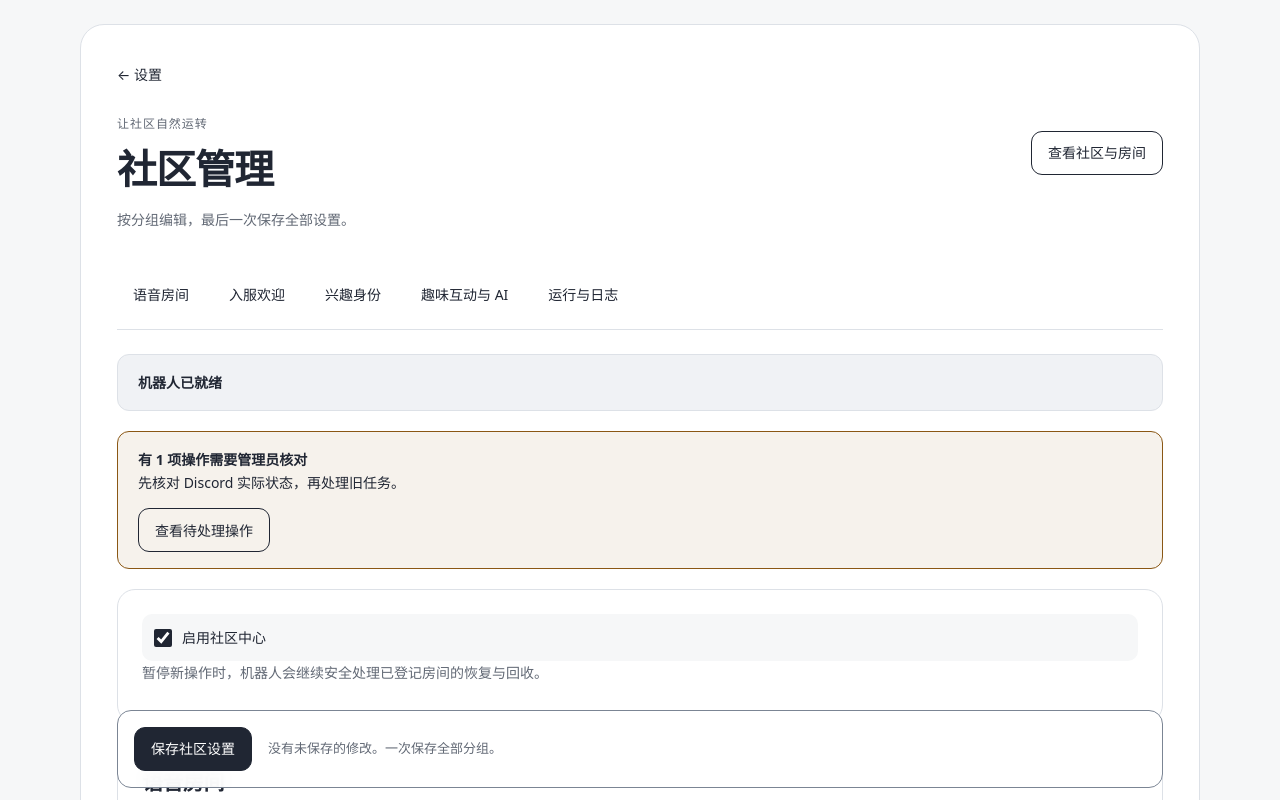
keeps an actionable review warning visible while diagnostic details start folded
Expected: the button "保存社区设置" is shown, [134,727,252,771]
Expected: the text "有 1 项操作需要管理员核对" is shown, [138,450,307,469]
Click the link "查看待处理操作" at (204, 530), box [138,508,270,552]
(page scrolled)
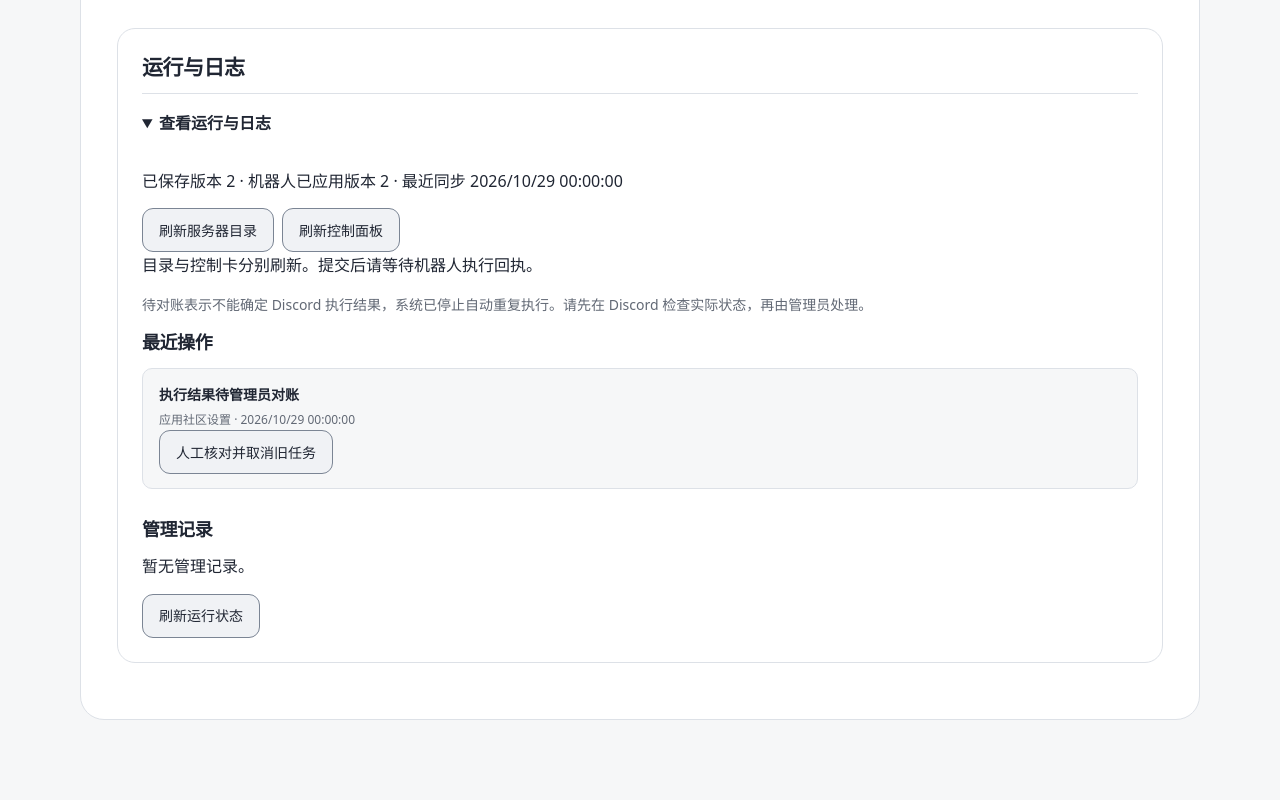
Result: the button "人工核对并取消旧任务" is shown at [159,430,333,474]
Result: the button "刷新服务器目录" is shown at [142,208,274,252]
